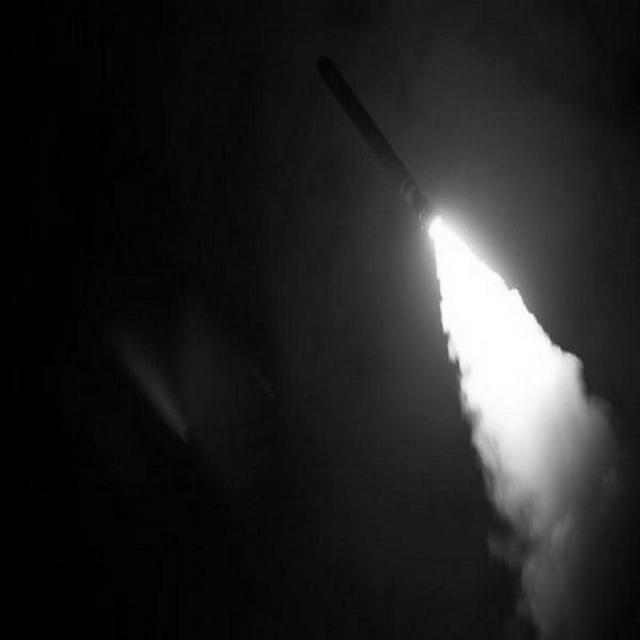Missile: (314, 41, 429, 197)
